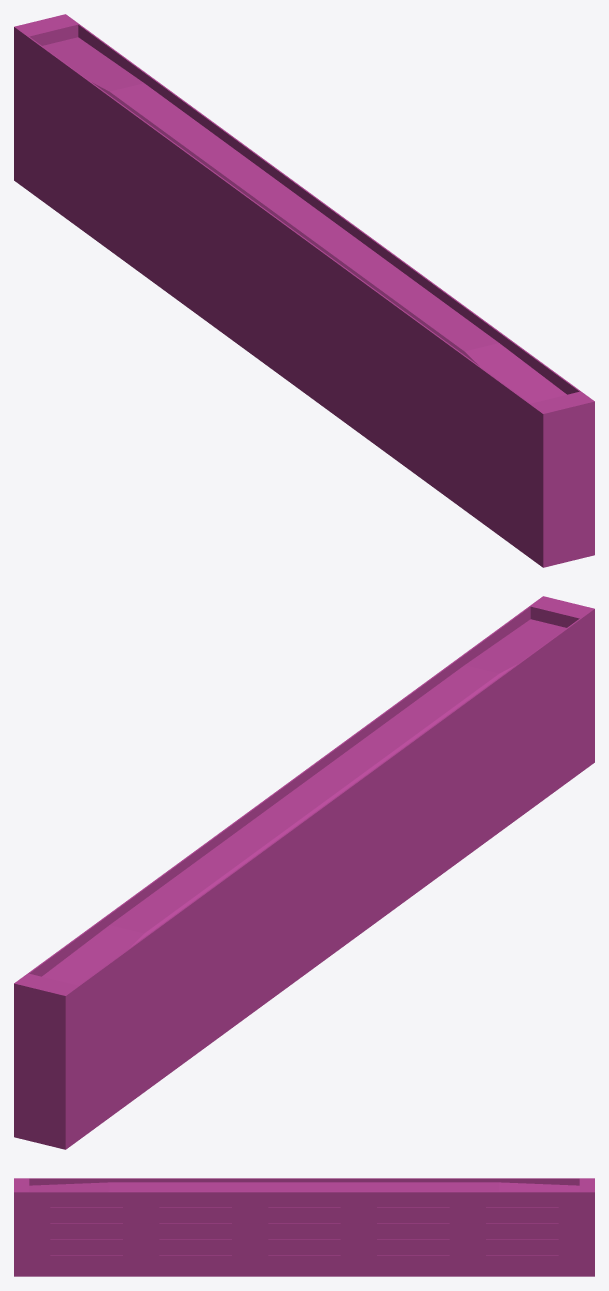
The model's file is level1.18.fbx.
The picture shows the model from 3 angles, top to bottom: view 1: azimuth 30°, elevation 25°; view 2: azimuth 150°, elevation 25°; view 3: azimuth 270°, elevation 25°; orthographic projection. The views are drawn at different scales.
Parts seen in each view (by area): view 1: Cube.021; view 2: Cube.021; view 3: Cube.021.
Part boxes in pixels (x1,y1,x2,y2): Cube.021: (14, 14, 594, 567); Cube.021: (14, 596, 594, 1149); Cube.021: (14, 1178, 594, 1276).
Bounding box in the file's own units: 113 × 321 × 2000.
